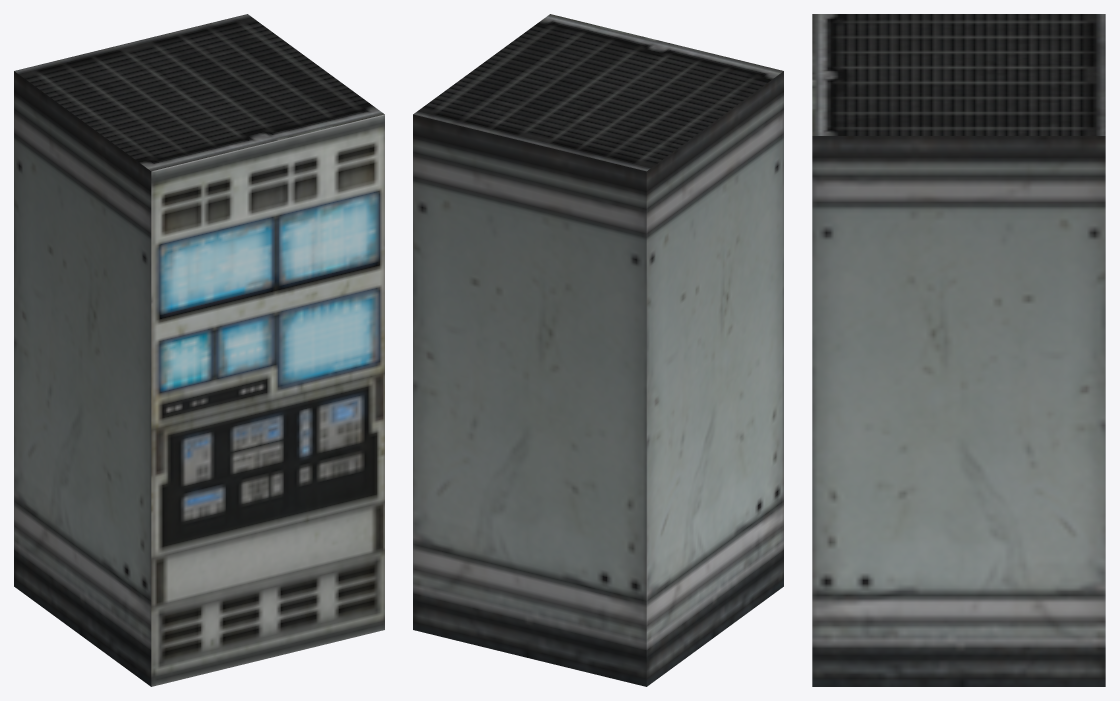
The model's file is armario-internoPACK2-3.fbx.
The picture shows the model from 3 angles, left to right: view 1: azimuth 30°, elevation 25°; view 2: azimuth 150°, elevation 25°; view 3: azimuth 270°, elevation 25°; orthographic projection. The views are drawn at different scales.
Visible parts, largest first — view 1: Cylinder; view 2: Cylinder; view 3: Cylinder.
Boxes of the visible parts, bbox=[...] form: Cylinder: bbox=[14, 14, 384, 686]; Cylinder: bbox=[413, 14, 783, 686]; Cylinder: bbox=[812, 14, 1105, 686].
Bounding box in the file's own units: 0.975 × 2.06 × 0.992.
